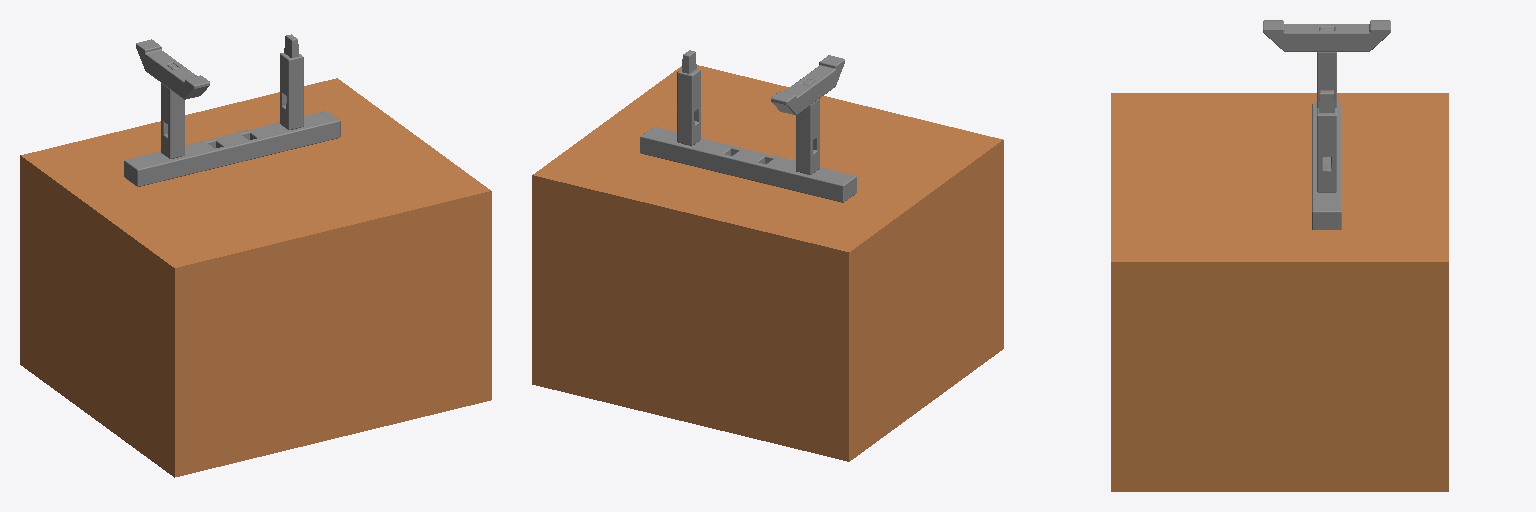
The robot description file, URDF, robot "table_beam_2x_1_scene_0052":
<?xml version="1.0"?>
<robot name="table_beam_2x_1_scene_0052">
  <link name="box">
    <visual>
      <material name="wood"><color rgba="0.82 0.56 0.35 1.0"/></material>
      <origin xyz="0 0 0"/>
      <geometry><box size="0.475 0.4 0.3"/></geometry>
    </visual>
    <collision>
      <origin xyz="0 0 0"/>
      <geometry><box size="0.475 0.4 0.3"/></geometry>
    </collision>
    <inertial>
      <mass value="500"/>
      <friction value="1.0"/>
      <inertia ixx="1000.0" ixy="0.0" ixz="0.0" iyy="1000.0" iyz="0.0" izz="1000.0"/>
    </inertial>
  </link>
  <link name="part_6_canonical">
    <visual>
      <origin xyz="0 0 0" rpy="0 0 0"/>
      <geometry><mesh filename="../../6/6_canonical.obj" scale="1 1 1"/></geometry>
      <material name="placed_0"><color rgba="0.6 0.6 0.6 1.0"/></material>
    </visual>
    <collision>
      <origin xyz="0 0 0" rpy="0 0 0"/>
      <geometry><mesh filename="../../6/6_canonical.obj" scale="1 1 1"/></geometry>
    </collision>
  </link>
  <joint name="part_6_canonical_joint" type="fixed">
    <parent link="box"/>
    <child link="part_6_canonical"/>
    <origin xyz="-0.003129 0.055827 0.162666" rpy="0.000000 0.000000 0.000000"/>
  </joint>
  <link name="part_2_canonical">
    <visual>
      <origin xyz="0 0 0" rpy="0 0 0"/>
      <geometry><mesh filename="../../2/2_canonical.obj" scale="1 1 1"/></geometry>
      <material name="placed_1"><color rgba="0.6 0.6 0.6 1.0"/></material>
    </visual>
    <collision>
      <origin xyz="0 0 0" rpy="0 0 0"/>
      <geometry><mesh filename="../../2/2_canonical.obj" scale="1 1 1"/></geometry>
    </collision>
  </link>
  <joint name="part_2_canonical_joint" type="fixed">
    <parent link="box"/>
    <child link="part_2_canonical"/>
    <origin xyz="-0.092055 0.055827 0.225384" rpy="0.000000 -1.570796 0.000000"/>
  </joint>
  <link name="part_0_canonical">
    <visual>
      <origin xyz="0 0 0" rpy="0 0 0"/>
      <geometry><mesh filename="../../0/0_canonical.obj" scale="1 1 1"/></geometry>
      <material name="placed_2"><color rgba="0.6 0.6 0.6 1.0"/></material>
    </visual>
    <collision>
      <origin xyz="0 0 0" rpy="0 0 0"/>
      <geometry><mesh filename="../../0/0_canonical.obj" scale="1 1 1"/></geometry>
    </collision>
  </link>
  <joint name="part_0_canonical_joint" type="fixed">
    <parent link="box"/>
    <child link="part_0_canonical"/>
    <origin xyz="-0.092029 0.055827 0.292243" rpy="1.570796 0.000000 -1.570796"/>
  </joint>
  <link name="part_3_hull_0">
    <visual>
      <origin xyz="0 0 0" rpy="0 0 0"/>
      <geometry><mesh filename="../../3/coacd/decomp_0.obj" scale="1 1 1"/></geometry>
      <material name="placed_3"><color rgba="0.6 0.6 0.6 1.0"/></material>
    </visual>
    <collision>
      <origin xyz="0 0 0" rpy="0 0 0"/>
      <geometry><mesh filename="../../3/coacd/decomp_0.obj" scale="1 1 1"/></geometry>
    </collision>
  </link>
  <joint name="part_3_hull_0_joint" type="fixed">
    <parent link="box"/>
    <child link="part_3_hull_0"/>
    <origin xyz="0.085798 0.055827 0.225384" rpy="0.000000 -1.570796 0.000000"/>
  </joint>
  <link name="part_3_hull_1">
    <visual>
      <origin xyz="0 0 0" rpy="0 0 0"/>
      <geometry><mesh filename="../../3/coacd/decomp_1.obj" scale="1 1 1"/></geometry>
      <material name="placed_4"><color rgba="0.6 0.6 0.6 1.0"/></material>
    </visual>
    <collision>
      <origin xyz="0 0 0" rpy="0 0 0"/>
      <geometry><mesh filename="../../3/coacd/decomp_1.obj" scale="1 1 1"/></geometry>
    </collision>
  </link>
  <joint name="part_3_hull_1_joint" type="fixed">
    <parent link="box"/>
    <child link="part_3_hull_1"/>
    <origin xyz="0.085798 0.055827 0.225384" rpy="0.000000 -1.570796 0.000000"/>
  </joint>
  <link name="part_3_hull_2">
    <visual>
      <origin xyz="0 0 0" rpy="0 0 0"/>
      <geometry><mesh filename="../../3/coacd/decomp_10.obj" scale="1 1 1"/></geometry>
      <material name="placed_5"><color rgba="0.6 0.6 0.6 1.0"/></material>
    </visual>
    <collision>
      <origin xyz="0 0 0" rpy="0 0 0"/>
      <geometry><mesh filename="../../3/coacd/decomp_10.obj" scale="1 1 1"/></geometry>
    </collision>
  </link>
  <joint name="part_3_hull_2_joint" type="fixed">
    <parent link="box"/>
    <child link="part_3_hull_2"/>
    <origin xyz="0.085798 0.055827 0.225384" rpy="0.000000 -1.570796 0.000000"/>
  </joint>
  <link name="part_3_hull_3">
    <visual>
      <origin xyz="0 0 0" rpy="0 0 0"/>
      <geometry><mesh filename="../../3/coacd/decomp_11.obj" scale="1 1 1"/></geometry>
      <material name="placed_6"><color rgba="0.6 0.6 0.6 1.0"/></material>
    </visual>
    <collision>
      <origin xyz="0 0 0" rpy="0 0 0"/>
      <geometry><mesh filename="../../3/coacd/decomp_11.obj" scale="1 1 1"/></geometry>
    </collision>
  </link>
  <joint name="part_3_hull_3_joint" type="fixed">
    <parent link="box"/>
    <child link="part_3_hull_3"/>
    <origin xyz="0.085798 0.055827 0.225384" rpy="0.000000 -1.570796 0.000000"/>
  </joint>
  <link name="part_3_hull_4">
    <visual>
      <origin xyz="0 0 0" rpy="0 0 0"/>
      <geometry><mesh filename="../../3/coacd/decomp_12.obj" scale="1 1 1"/></geometry>
      <material name="placed_7"><color rgba="0.6 0.6 0.6 1.0"/></material>
    </visual>
    <collision>
      <origin xyz="0 0 0" rpy="0 0 0"/>
      <geometry><mesh filename="../../3/coacd/decomp_12.obj" scale="1 1 1"/></geometry>
    </collision>
  </link>
  <joint name="part_3_hull_4_joint" type="fixed">
    <parent link="box"/>
    <child link="part_3_hull_4"/>
    <origin xyz="0.085798 0.055827 0.225384" rpy="0.000000 -1.570796 0.000000"/>
  </joint>
  <link name="part_3_hull_5">
    <visual>
      <origin xyz="0 0 0" rpy="0 0 0"/>
      <geometry><mesh filename="../../3/coacd/decomp_2.obj" scale="1 1 1"/></geometry>
      <material name="placed_8"><color rgba="0.6 0.6 0.6 1.0"/></material>
    </visual>
    <collision>
      <origin xyz="0 0 0" rpy="0 0 0"/>
      <geometry><mesh filename="../../3/coacd/decomp_2.obj" scale="1 1 1"/></geometry>
    </collision>
  </link>
  <joint name="part_3_hull_5_joint" type="fixed">
    <parent link="box"/>
    <child link="part_3_hull_5"/>
    <origin xyz="0.085798 0.055827 0.225384" rpy="0.000000 -1.570796 0.000000"/>
  </joint>
  <link name="part_3_hull_6">
    <visual>
      <origin xyz="0 0 0" rpy="0 0 0"/>
      <geometry><mesh filename="../../3/coacd/decomp_3.obj" scale="1 1 1"/></geometry>
      <material name="placed_9"><color rgba="0.6 0.6 0.6 1.0"/></material>
    </visual>
    <collision>
      <origin xyz="0 0 0" rpy="0 0 0"/>
      <geometry><mesh filename="../../3/coacd/decomp_3.obj" scale="1 1 1"/></geometry>
    </collision>
  </link>
  <joint name="part_3_hull_6_joint" type="fixed">
    <parent link="box"/>
    <child link="part_3_hull_6"/>
    <origin xyz="0.085798 0.055827 0.225384" rpy="0.000000 -1.570796 0.000000"/>
  </joint>
  <link name="part_3_hull_7">
    <visual>
      <origin xyz="0 0 0" rpy="0 0 0"/>
      <geometry><mesh filename="../../3/coacd/decomp_4.obj" scale="1 1 1"/></geometry>
      <material name="placed_10"><color rgba="0.6 0.6 0.6 1.0"/></material>
    </visual>
    <collision>
      <origin xyz="0 0 0" rpy="0 0 0"/>
      <geometry><mesh filename="../../3/coacd/decomp_4.obj" scale="1 1 1"/></geometry>
    </collision>
  </link>
  <joint name="part_3_hull_7_joint" type="fixed">
    <parent link="box"/>
    <child link="part_3_hull_7"/>
    <origin xyz="0.085798 0.055827 0.225384" rpy="0.000000 -1.570796 0.000000"/>
  </joint>
  <link name="part_3_hull_8">
    <visual>
      <origin xyz="0 0 0" rpy="0 0 0"/>
      <geometry><mesh filename="../../3/coacd/decomp_5.obj" scale="1 1 1"/></geometry>
      <material name="placed_11"><color rgba="0.6 0.6 0.6 1.0"/></material>
    </visual>
    <collision>
      <origin xyz="0 0 0" rpy="0 0 0"/>
      <geometry><mesh filename="../../3/coacd/decomp_5.obj" scale="1 1 1"/></geometry>
    </collision>
  </link>
  <joint name="part_3_hull_8_joint" type="fixed">
    <parent link="box"/>
    <child link="part_3_hull_8"/>
    <origin xyz="0.085798 0.055827 0.225384" rpy="0.000000 -1.570796 0.000000"/>
  </joint>
  <link name="part_3_hull_9">
    <visual>
      <origin xyz="0 0 0" rpy="0 0 0"/>
      <geometry><mesh filename="../../3/coacd/decomp_6.obj" scale="1 1 1"/></geometry>
      <material name="placed_12"><color rgba="0.6 0.6 0.6 1.0"/></material>
    </visual>
    <collision>
      <origin xyz="0 0 0" rpy="0 0 0"/>
      <geometry><mesh filename="../../3/coacd/decomp_6.obj" scale="1 1 1"/></geometry>
    </collision>
  </link>
  <joint name="part_3_hull_9_joint" type="fixed">
    <parent link="box"/>
    <child link="part_3_hull_9"/>
    <origin xyz="0.085798 0.055827 0.225384" rpy="0.000000 -1.570796 0.000000"/>
  </joint>
  <link name="part_3_hull_10">
    <visual>
      <origin xyz="0 0 0" rpy="0 0 0"/>
      <geometry><mesh filename="../../3/coacd/decomp_7.obj" scale="1 1 1"/></geometry>
      <material name="placed_13"><color rgba="0.6 0.6 0.6 1.0"/></material>
    </visual>
    <collision>
      <origin xyz="0 0 0" rpy="0 0 0"/>
      <geometry><mesh filename="../../3/coacd/decomp_7.obj" scale="1 1 1"/></geometry>
    </collision>
  </link>
  <joint name="part_3_hull_10_joint" type="fixed">
    <parent link="box"/>
    <child link="part_3_hull_10"/>
    <origin xyz="0.085798 0.055827 0.225384" rpy="0.000000 -1.570796 0.000000"/>
  </joint>
  <link name="part_3_hull_11">
    <visual>
      <origin xyz="0 0 0" rpy="0 0 0"/>
      <geometry><mesh filename="../../3/coacd/decomp_8.obj" scale="1 1 1"/></geometry>
      <material name="placed_14"><color rgba="0.6 0.6 0.6 1.0"/></material>
    </visual>
    <collision>
      <origin xyz="0 0 0" rpy="0 0 0"/>
      <geometry><mesh filename="../../3/coacd/decomp_8.obj" scale="1 1 1"/></geometry>
    </collision>
  </link>
  <joint name="part_3_hull_11_joint" type="fixed">
    <parent link="box"/>
    <child link="part_3_hull_11"/>
    <origin xyz="0.085798 0.055827 0.225384" rpy="0.000000 -1.570796 0.000000"/>
  </joint>
  <link name="part_3_hull_12">
    <visual>
      <origin xyz="0 0 0" rpy="0 0 0"/>
      <geometry><mesh filename="../../3/coacd/decomp_9.obj" scale="1 1 1"/></geometry>
      <material name="placed_15"><color rgba="0.6 0.6 0.6 1.0"/></material>
    </visual>
    <collision>
      <origin xyz="0 0 0" rpy="0 0 0"/>
      <geometry><mesh filename="../../3/coacd/decomp_9.obj" scale="1 1 1"/></geometry>
    </collision>
  </link>
  <joint name="part_3_hull_12_joint" type="fixed">
    <parent link="box"/>
    <child link="part_3_hull_12"/>
    <origin xyz="0.085798 0.055827 0.225384" rpy="0.000000 -1.570796 0.000000"/>
  </joint>
</robot>

--- Render facts (derived) ---
The picture shows the robot from 3 angles, left to right: view 1: azimuth 30°, elevation 25°; view 2: azimuth 150°, elevation 25°; view 3: azimuth 270°, elevation 25°; orthographic projection.
Robot: table_beam_2x_1_scene_0052 — 17 links, 16 joints (16 fixed); root link box; default pose: all joints at 0.
Links seen in each view (by area): view 1: box, part_6_canonical, part_0_canonical, part_2_canonical; view 2: box, part_6_canonical, part_0_canonical, part_2_canonical; view 3: box, part_0_canonical, part_6_canonical, part_2_canonical, part_3_hull_0.
Boxes of the visible links, x1,y1,x2,y2 form: box: (20, 78, 491, 477); part_6_canonical: (124, 111, 340, 186); part_0_canonical: (136, 39, 209, 99); part_2_canonical: (161, 63, 184, 158); box: (532, 65, 1003, 461); part_6_canonical: (640, 127, 856, 202); part_0_canonical: (771, 55, 844, 114); part_2_canonical: (796, 79, 819, 174); box: (1111, 93, 1448, 491); part_0_canonical: (1263, 20, 1390, 51); part_6_canonical: (1312, 103, 1341, 229); part_2_canonical: (1317, 27, 1336, 107); part_3_hull_0: (1317, 113, 1336, 156).
Size in the robot's own frame: 0.475 by 0.4 by 0.4575 metres.
16 mesh visuals loaded from 16 distinct referenced files (16 OBJ).
